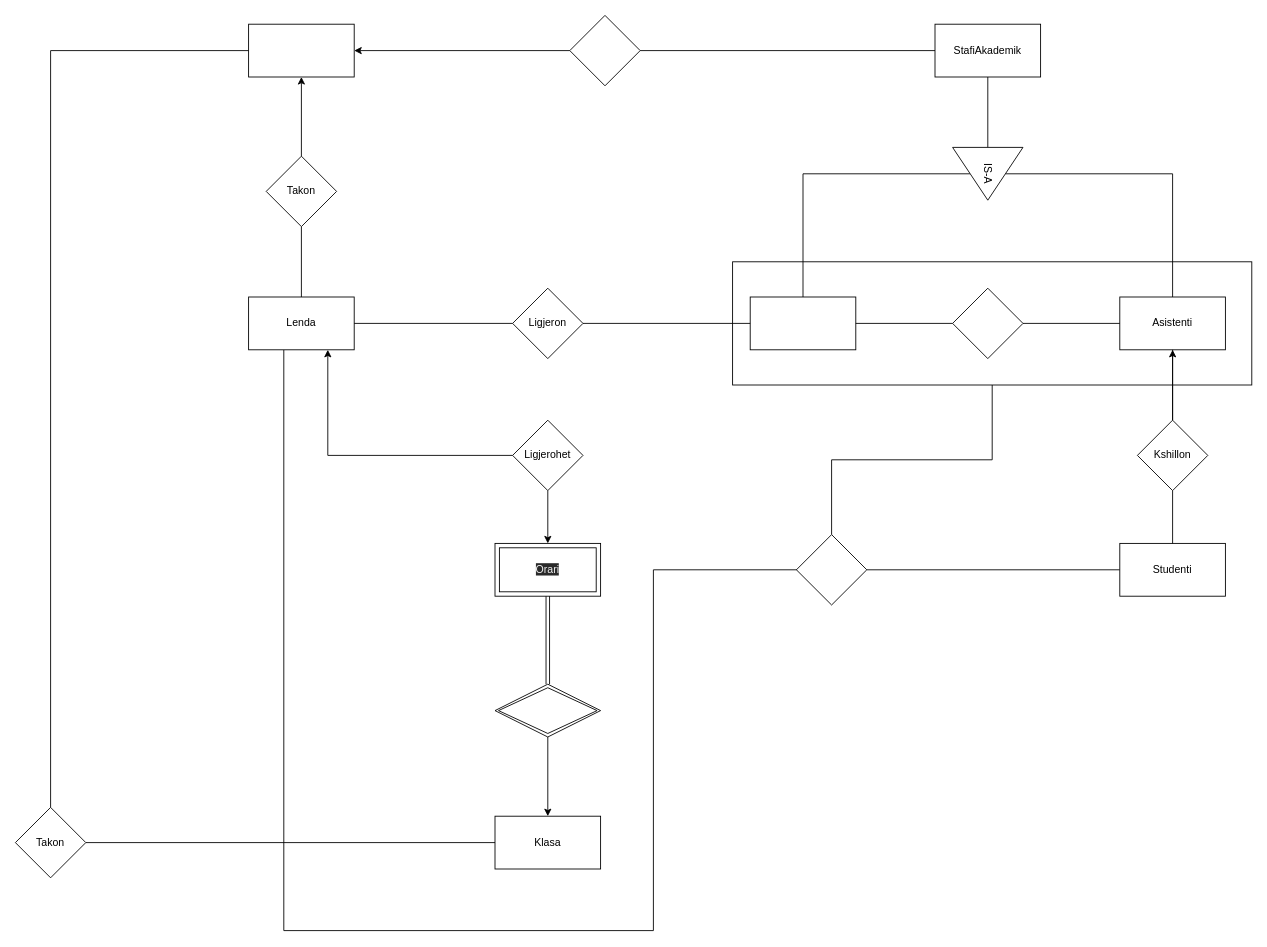
The diagram is 1267 pixels wide and 947 high, and some of its shapes have lost their labels. Here are the shapes that lost their labels. From the top down, the centre of each, then its label:
At point (301, 50): "Fakulteti".
At point (604, 50): "Punon".
At point (802, 323): "Profesori".
At point (987, 323): "Ka".
At point (831, 569): "Konsullton".
At point (547, 710): "Identifikohet".
